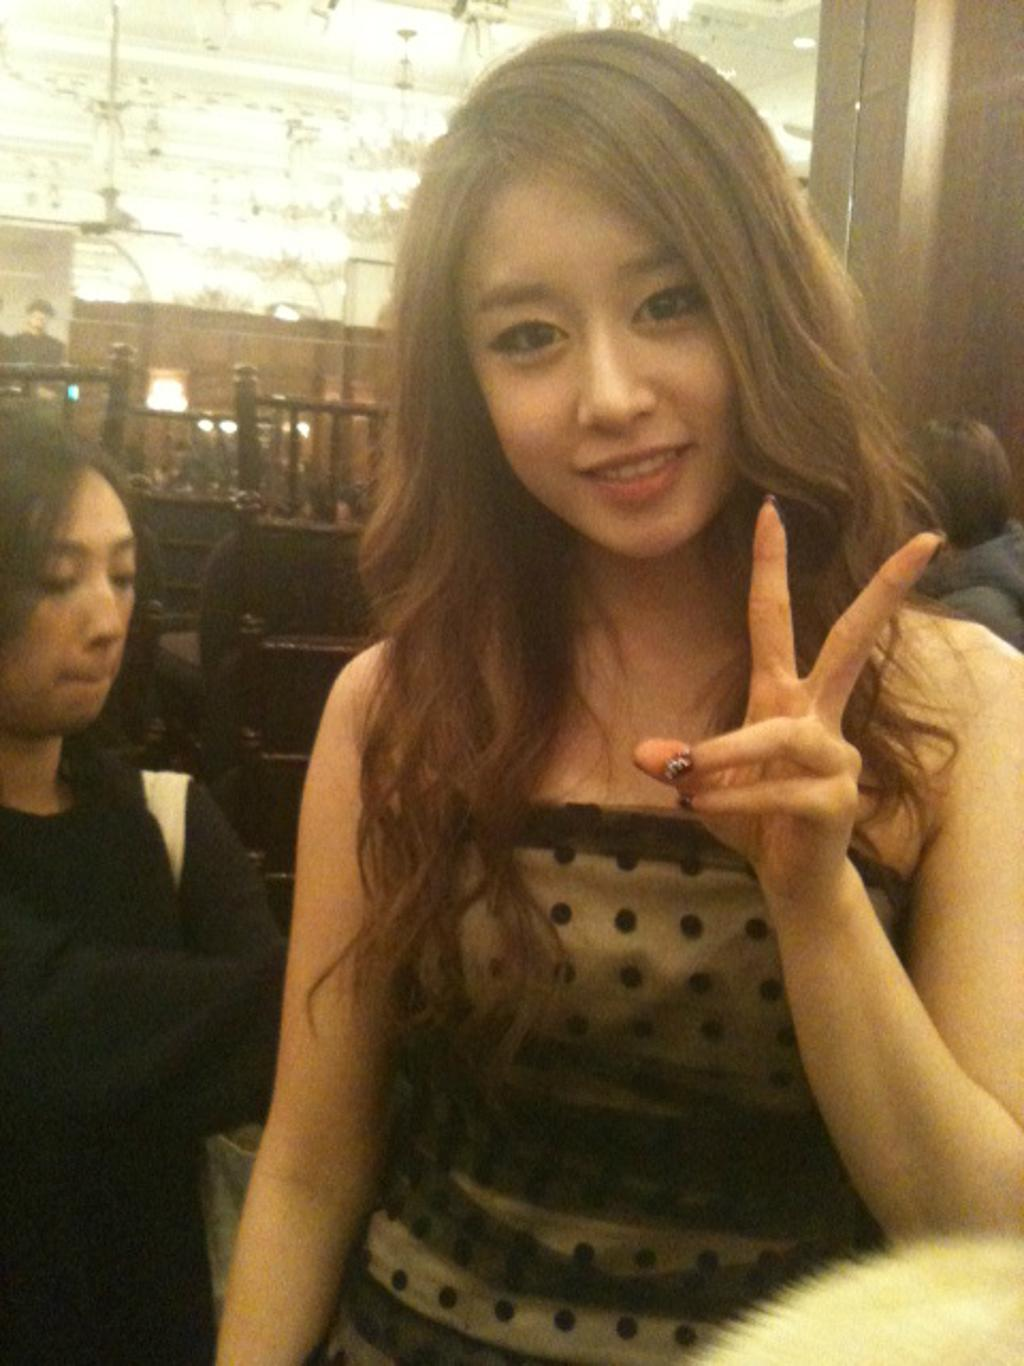face: (461, 187, 754, 560), (19, 475, 131, 728)
